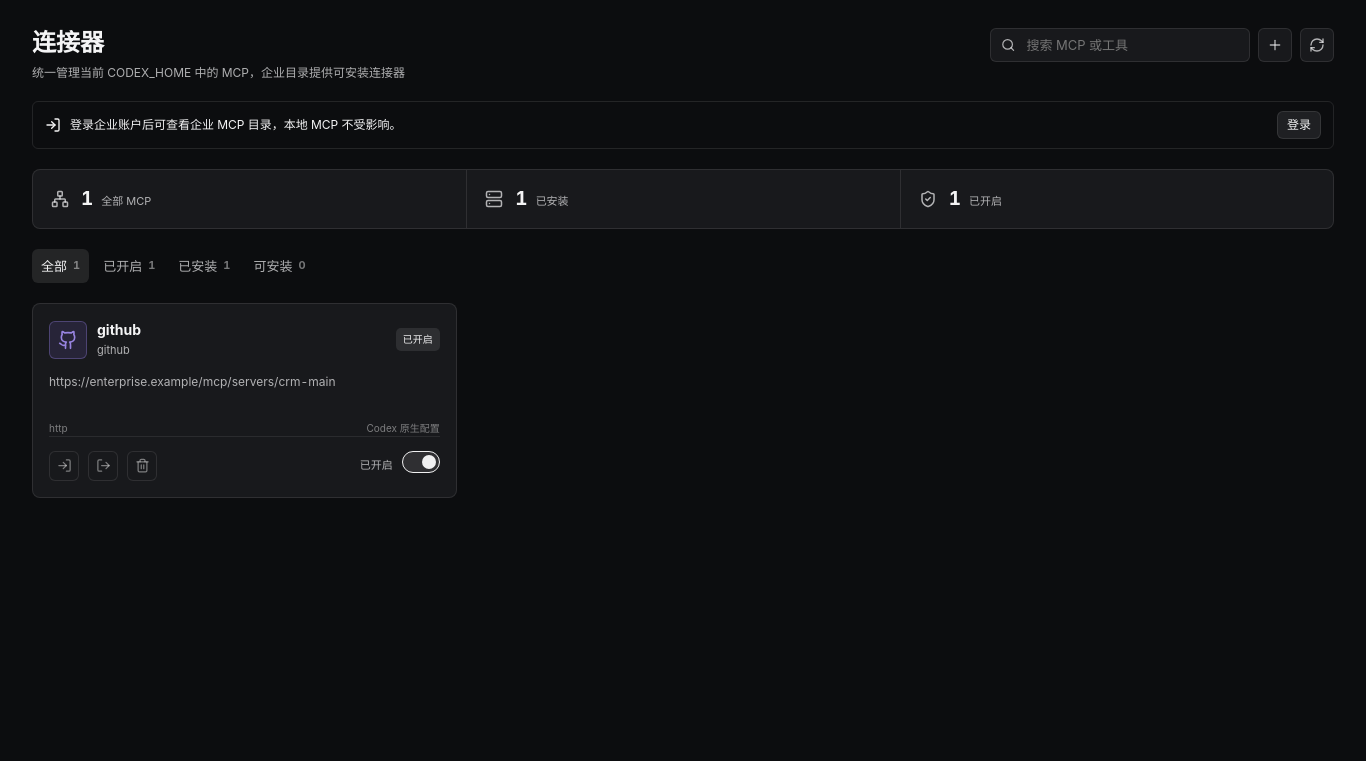
Test case: ConnectionsPage › offers recovery actions when connector search has no results
Expected: the heading "github" is shown, [97,321,141,338]
In the search field named "搜索连接器": (1132, 45) [1024,35,1239,55], type "missing connector"
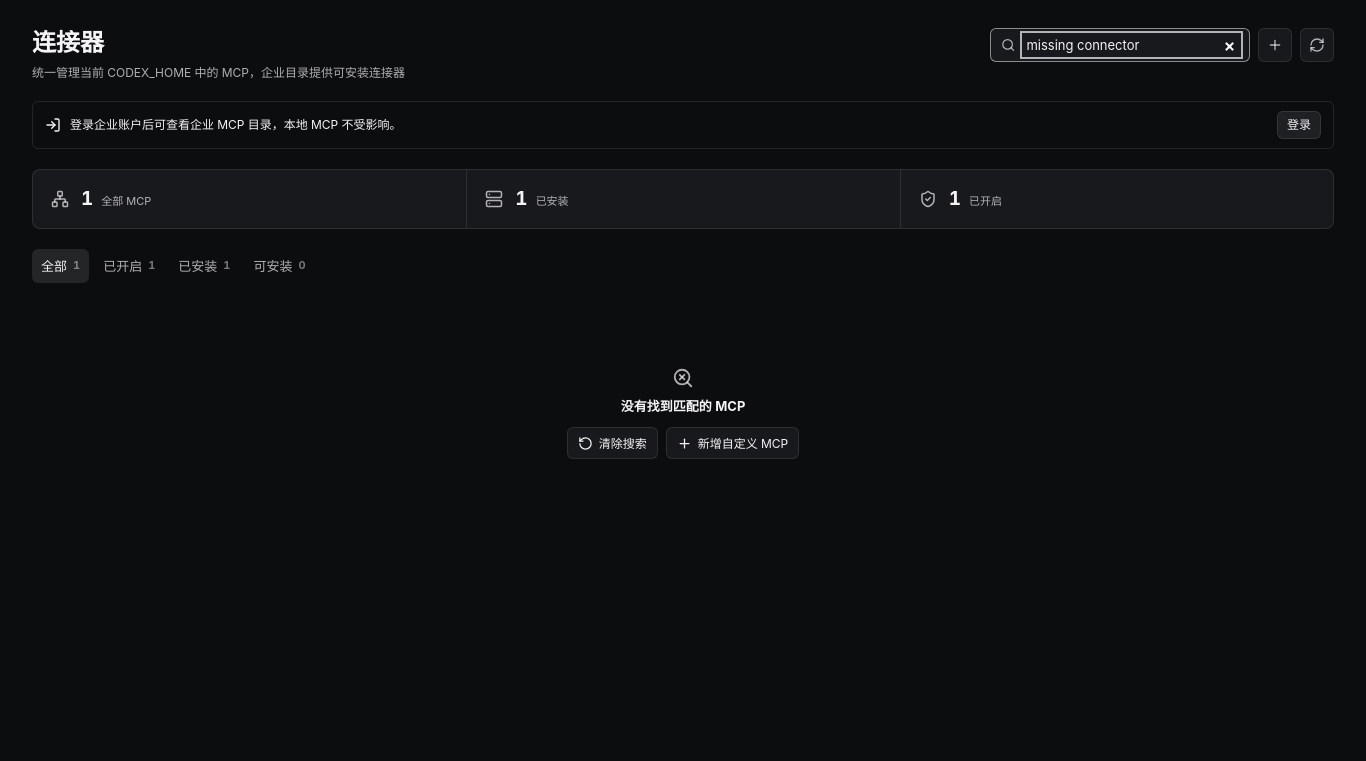
Result: the text "没有找到匹配的 MCP" is shown at [621,396,745,415]
Result: the button "清除搜索" is shown
Result: the button "新增自定义 MCP" is shown at [666,427,799,459]
Click the button "清除搜索": (612, 443) [567,427,658,459]
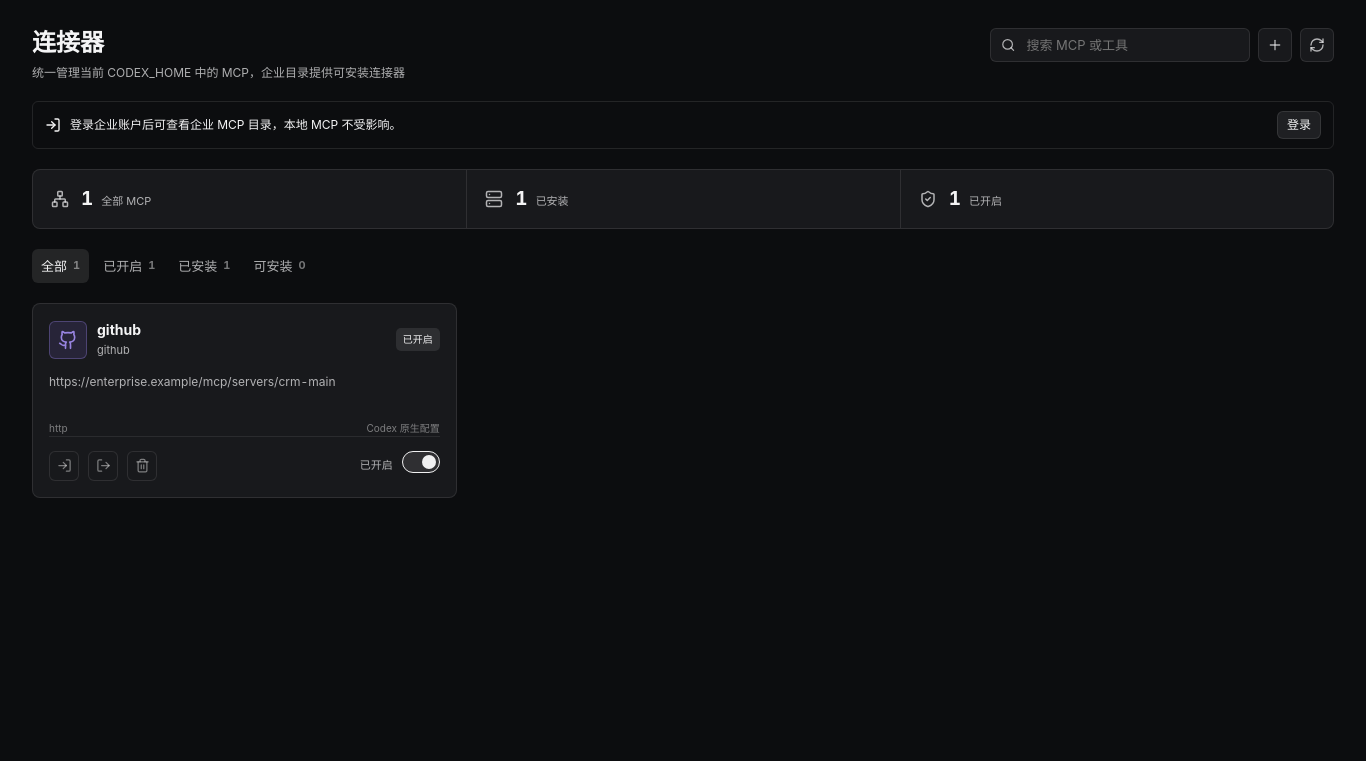
Result: the heading "github" is shown at [97,321,141,338]
In the search field named "搜索连接器": (1132, 45) [1024,35,1239,55], type "still missing"
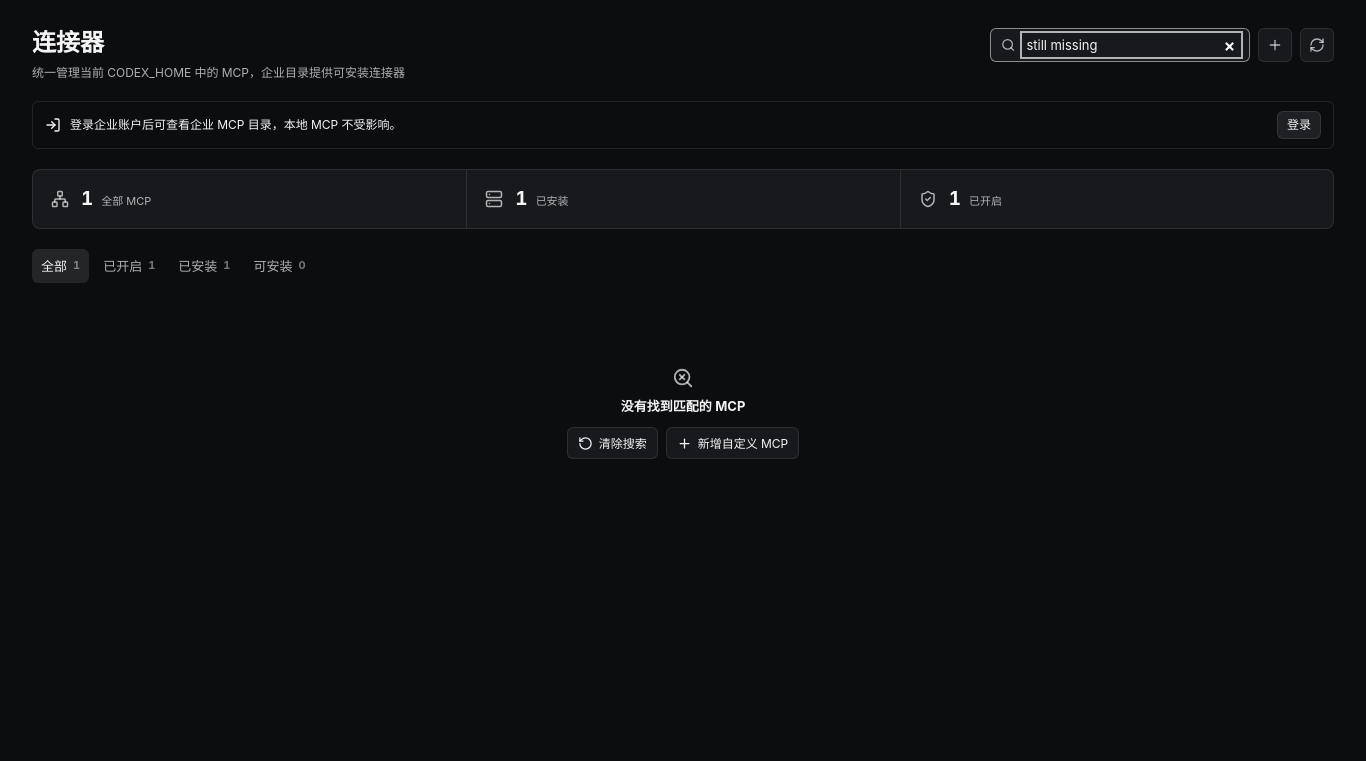
Click the button "新增自定义 MCP": (733, 443) [666,427,799,459]
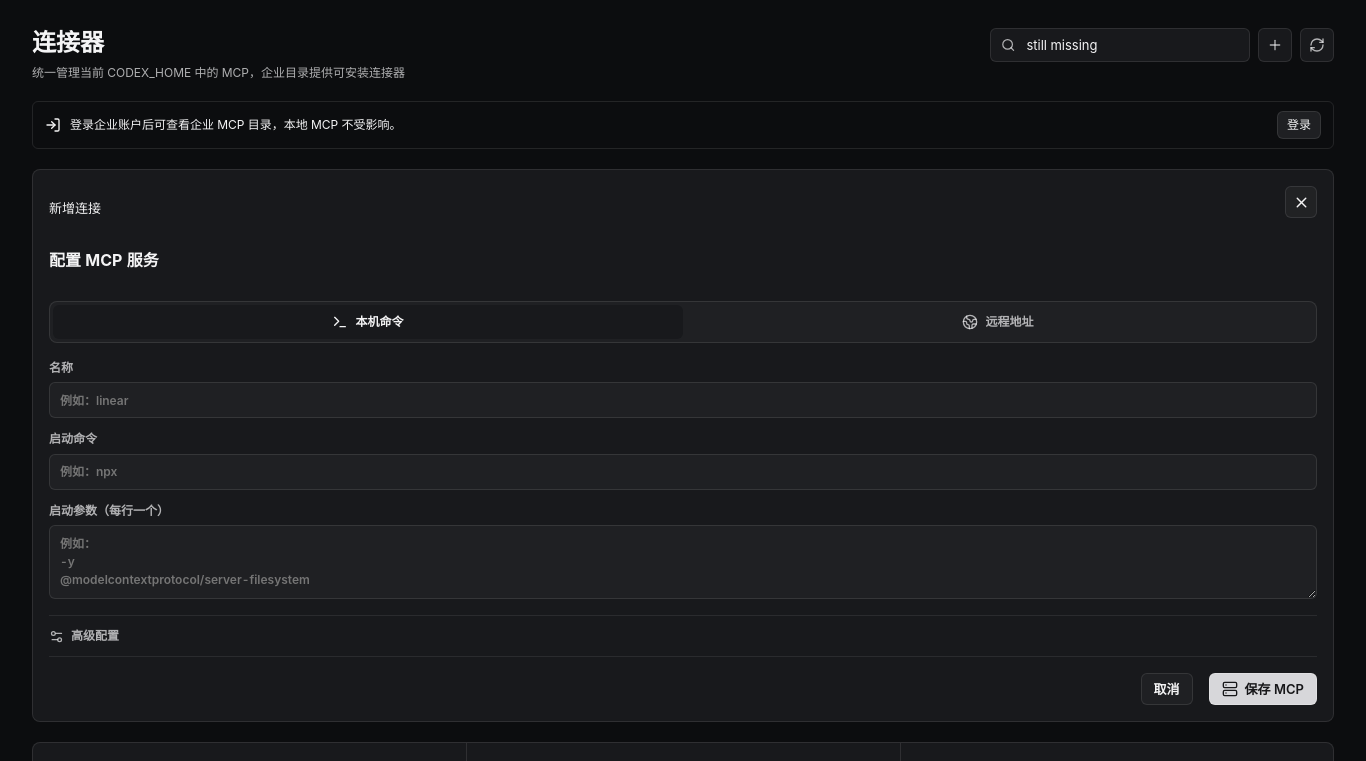
Result: the form named "新增 MCP" is shown
